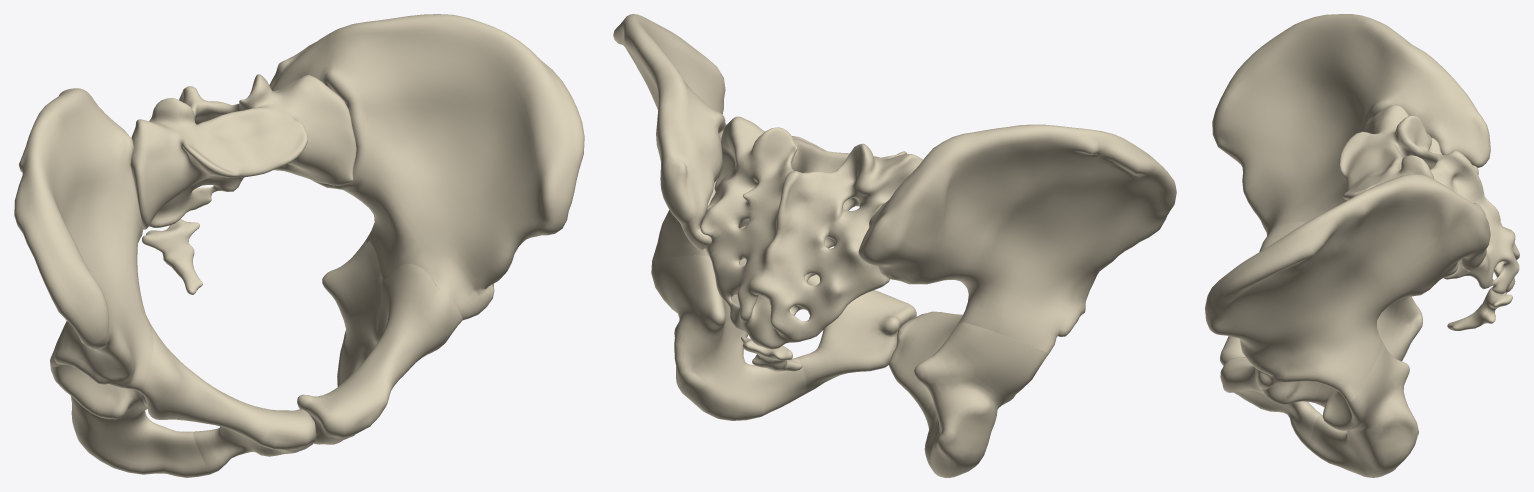
File: female-skeletal.glb
The picture shows the model from 3 angles, left to right: view 1: azimuth 30°, elevation 25°; view 2: azimuth 150°, elevation 25°; view 3: azimuth 270°, elevation 25°; orthographic projection. The views are drawn at different scales.
Visible parts, largest first — view 1: VH_F_ilium_compact_bone_L, VH_F_ilium_compact_bone_R, VH_F_sacrum, VH_F_pubis_compact_bone_L, VH_F_pubis_compact_bone_R, VH_F_ischium_compact_bone_R, VH_F_ischium_compact_bone_L, VH_F_coccyx; view 2: VH_F_ilium_compact_bone_R, VH_F_sacrum, VH_F_ilium_compact_bone_L, VH_F_ischium_compact_bone_L, VH_F_ischium_compact_bone_R, VH_F_pubis_compact_bone_L, VH_F_pubis_compact_bone_R, VH_F_coccyx; view 3: VH_F_ilium_compact_bone_L, VH_F_ilium_compact_bone_R, VH_F_sacrum, VH_F_ischium_compact_bone_L, VH_F_pubis_compact_bone_L, VH_F_ischium_compact_bone_R, VH_F_coccyx, VH_F_pubis_compact_bone_R.
Part boxes in pixels (box(x1,y1,x2,y2)): VH_F_ilium_compact_bone_L: box(269, 14, 584, 320); VH_F_ilium_compact_bone_R: box(14, 88, 153, 392); VH_F_sacrum: box(130, 74, 356, 229); VH_F_pubis_compact_bone_L: box(297, 263, 462, 444); VH_F_pubis_compact_bone_R: box(140, 325, 316, 474); VH_F_ischium_compact_bone_R: box(50, 362, 209, 477); VH_F_ischium_compact_bone_L: box(322, 239, 382, 436); VH_F_coccyx: box(142, 219, 202, 294); VH_F_ilium_compact_bone_R: box(858, 124, 1176, 354); VH_F_sacrum: box(700, 116, 922, 349); VH_F_ilium_compact_bone_L: box(613, 14, 745, 260); VH_F_ischium_compact_bone_L: box(651, 255, 806, 420); VH_F_ischium_compact_bone_R: box(914, 322, 1048, 477); VH_F_pubis_compact_bone_L: box(740, 258, 916, 393); VH_F_pubis_compact_bone_R: box(889, 311, 962, 420); VH_F_coccyx: box(741, 336, 802, 371); VH_F_ilium_compact_bone_L: box(1205, 174, 1490, 401); VH_F_ilium_compact_bone_R: box(1212, 14, 1490, 235); VH_F_sacrum: box(1339, 105, 1519, 294); VH_F_ischium_compact_bone_L: box(1307, 341, 1418, 477); VH_F_pubis_compact_bone_L: box(1220, 357, 1322, 447); VH_F_ischium_compact_bone_R: box(1377, 296, 1422, 361); VH_F_coccyx: box(1447, 287, 1512, 330); VH_F_pubis_compact_bone_R: box(1220, 222, 1305, 365).
Size of the model in its own units: 3.17 by 2.11 by 1.83.
